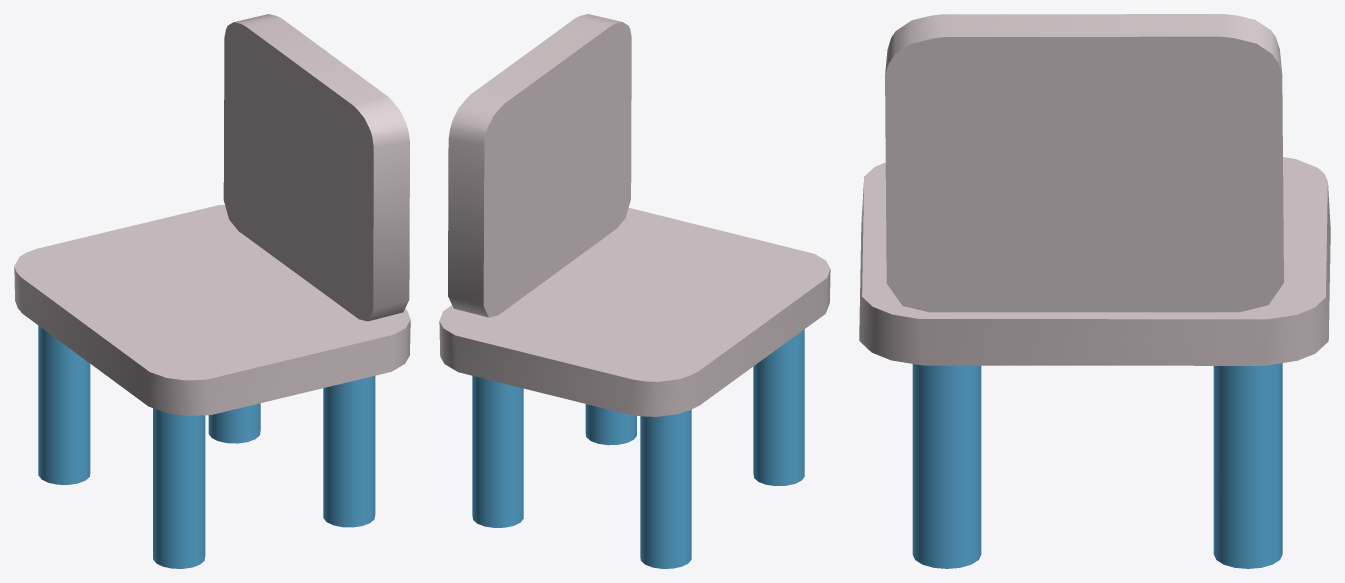
Rendered from chair.fbx.
3 renders of one model, left to right at view 1: azimuth 30°, elevation 25°; view 2: azimuth 150°, elevation 25°; view 3: azimuth 270°, elevation 25°, orthographic. The views are drawn at different scales.
Parts seen in each view (by area): view 1: chair; view 2: chair; view 3: chair.
Part boxes in pixels (box(x1,y1,x2,y2)): chair: box(14, 14, 410, 568); chair: box(439, 14, 830, 568); chair: box(859, 14, 1330, 568).
Bounding box in the file's own units: 1.02 × 1.56 × 1.23.
